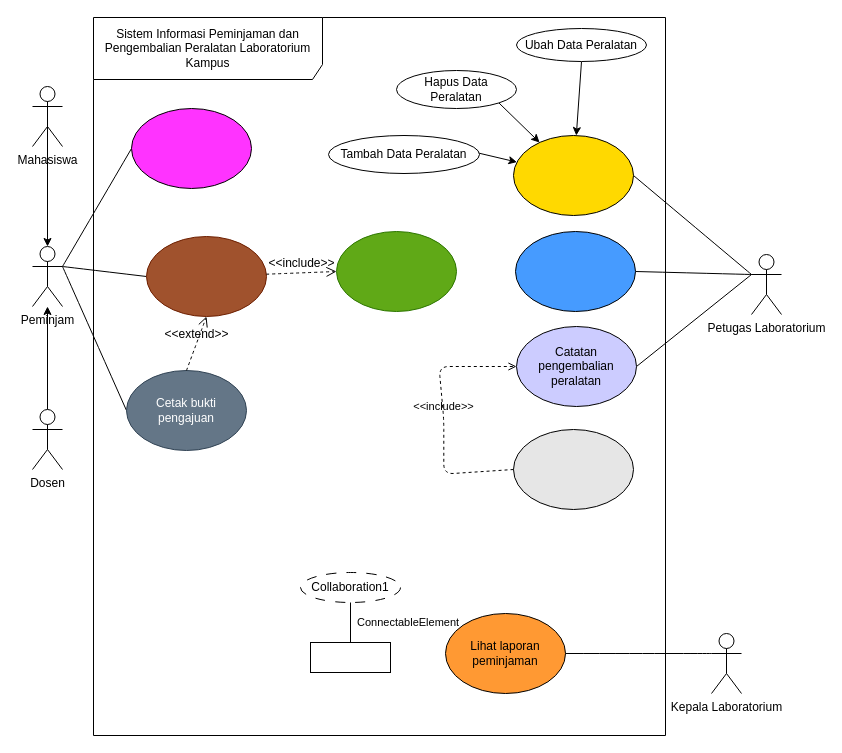
Some shapes in this 842 by 753 pixel diagram are drawn without their labels. Each missing label, with the box of its shape:
Ajukan peminjaman: (146, 236, 266, 316)
Classifier1: (310, 642, 390, 672)
Kelola data peralatan: (512, 134, 634, 216)
Lihat ketersediaan peralatan: (130, 108, 252, 188)
Periksa ketersediaan: (336, 230, 456, 312)
Periksa kondisi peralatan: (512, 428, 634, 510)
Proses keputusan peminjaman: (514, 230, 636, 312)
